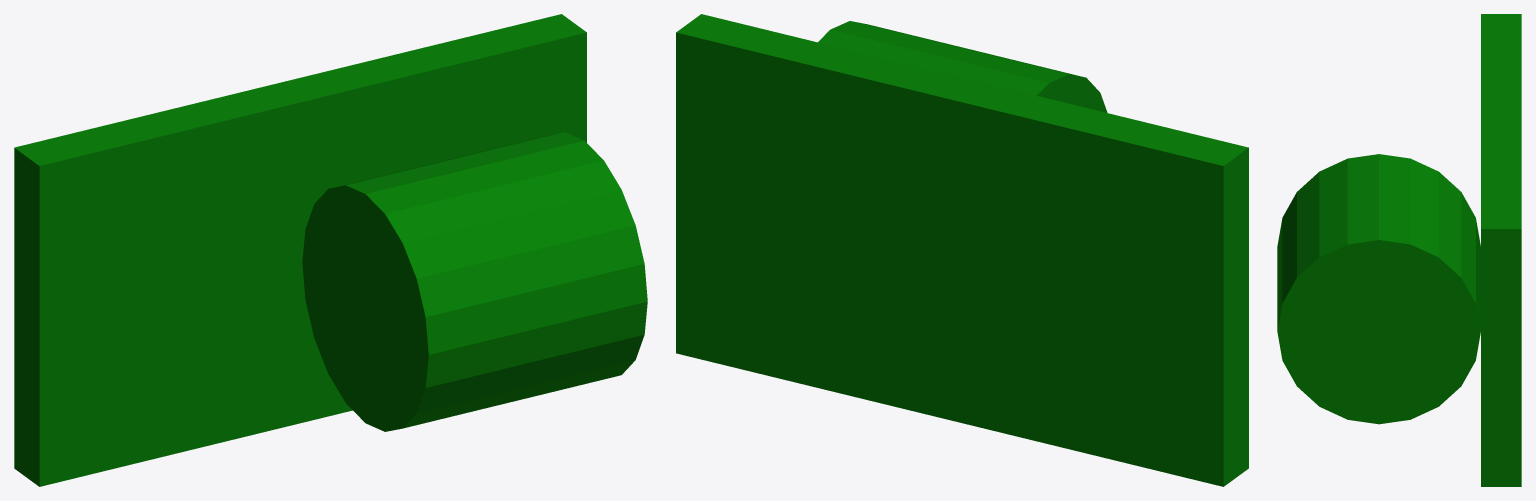
Rendered from LLEG_LINK6_mesh.dae.
3 renders of one model, left to right at view 1: azimuth 30°, elevation 25°; view 2: azimuth 150°, elevation 25°; view 3: azimuth 270°, elevation 25°, orthographic. The views are drawn at different scales.
Visible parts, largest first — view 1: LLEG_LINK6 (×2); view 2: LLEG_LINK6 (×2); view 3: LLEG_LINK6 (×2).
Part boxes in pixels (<box>): LLEG_LINK6 (×2): <box>14,14,647,486</box>; LLEG_LINK6 (×2): <box>676,14,1248,486</box>; LLEG_LINK6 (×2): <box>1277,14,1521,486</box>.
Bounding box in the file's own units: 0.25 × 0.14 × 0.12.
